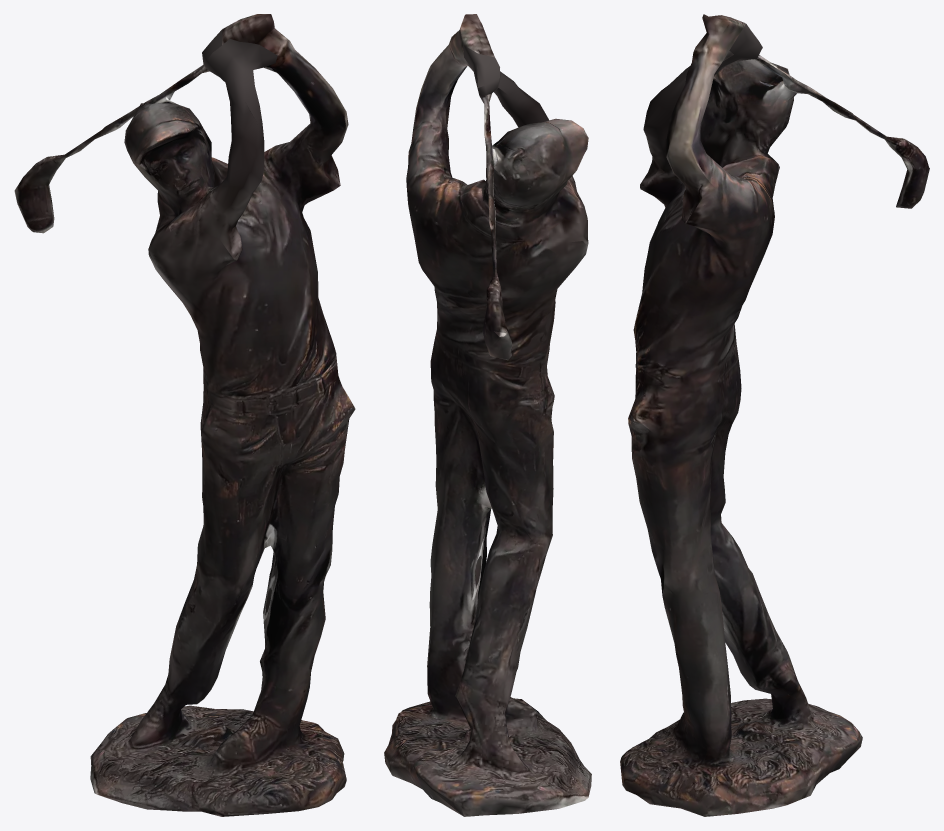
Rendered from statue.glb.
3 views of the same model, side by side, from view 1: azimuth 30°, elevation 25°; view 2: azimuth 150°, elevation 25°; view 3: azimuth 270°, elevation 25° (orthographic). The views are drawn at different scales.
Visible parts, largest first — view 1: geo1_MAT_Statue_Sports_Golf_0; view 2: geo1_MAT_Statue_Sports_Golf_0; view 3: geo1_MAT_Statue_Sports_Golf_0.
Part boxes in pixels (x1,y1,x2,y2): geo1_MAT_Statue_Sports_Golf_0: [14, 14, 355, 816]; geo1_MAT_Statue_Sports_Golf_0: [384, 14, 591, 816]; geo1_MAT_Statue_Sports_Golf_0: [620, 14, 929, 816].
Bounding box in the file's own units: 0.9829 × 3.2 × 1.17.
1 material, 1 textured.
